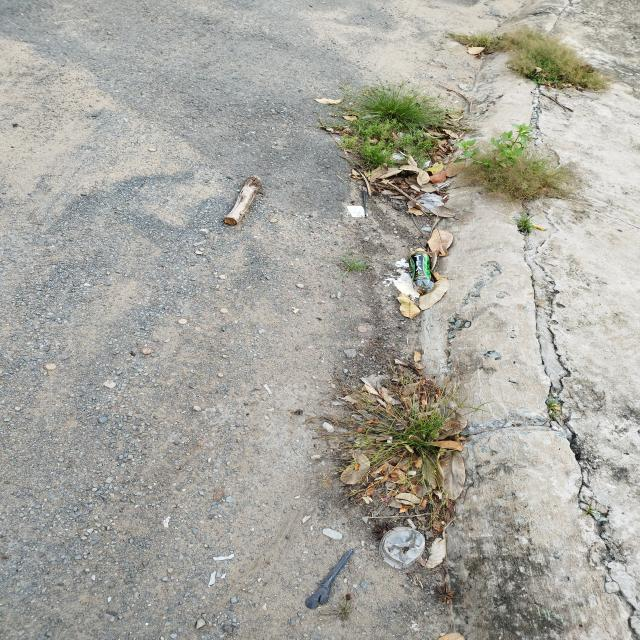bottle: (410, 248, 434, 294)
drinking straw: (363, 190, 367, 216)
lid: (378, 526, 426, 569)
plastic utensil: (306, 548, 354, 609)
